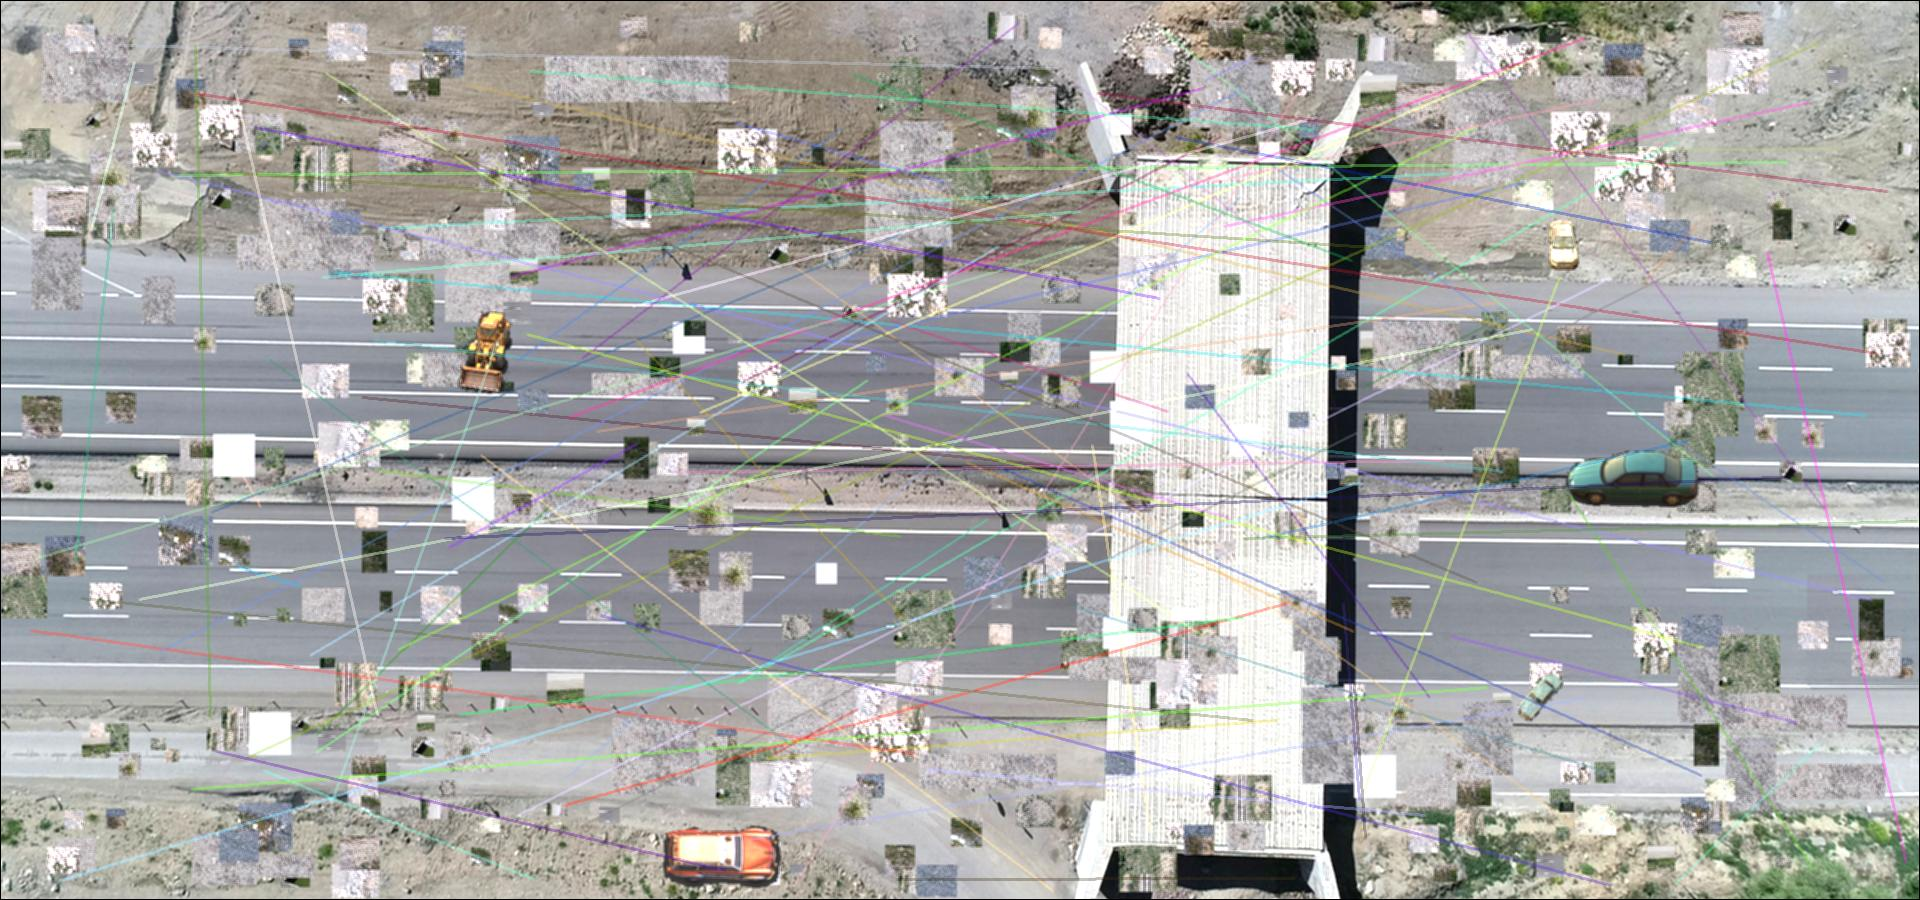arac: (1564, 451, 1703, 507), (662, 825, 787, 888), (451, 305, 516, 396), (1518, 669, 1564, 721), (1548, 219, 1580, 273)
